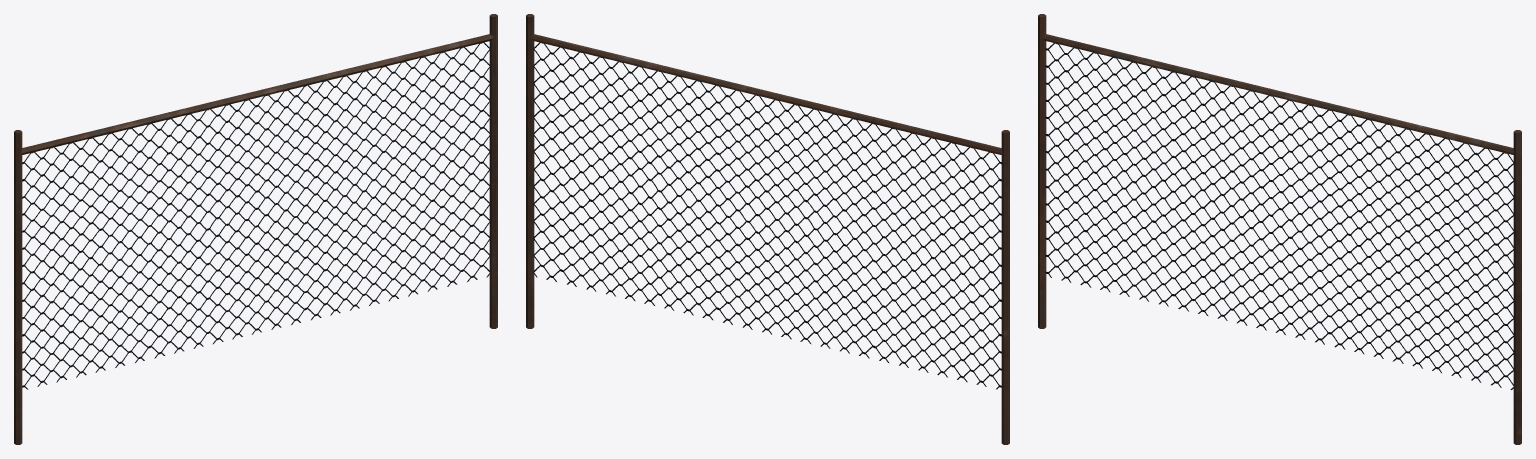
The model's file is Fence1.fbx.
3 views of the same model, side by side, from view 1: azimuth 30°, elevation 25°; view 2: azimuth 150°, elevation 25°; view 3: azimuth 330°, elevation 25° (orthographic).
Parts seen in each view (by area): view 1: metalfence_both_sides_topbar; view 2: metalfence_both_sides_topbar; view 3: metalfence_both_sides_topbar.
Boxes of the visible parts, x1=… form: metalfence_both_sides_topbar: x1=14, y1=14, x2=497, y2=444; metalfence_both_sides_topbar: x1=526, y1=14, x2=1009, y2=444; metalfence_both_sides_topbar: x1=1038, y1=14, x2=1521, y2=444.
Bounding box in the file's own units: 2.7 × 1.67 × 0.04.
